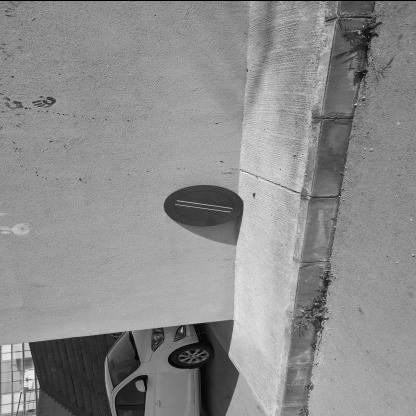No Waiting: (165, 186, 243, 226)
